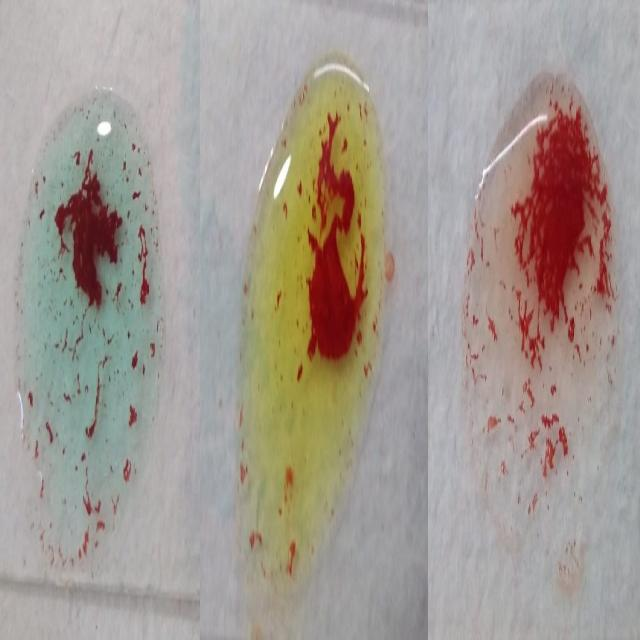A: (19, 99, 163, 544)
B: (238, 61, 383, 564)
D: (461, 70, 623, 560)
